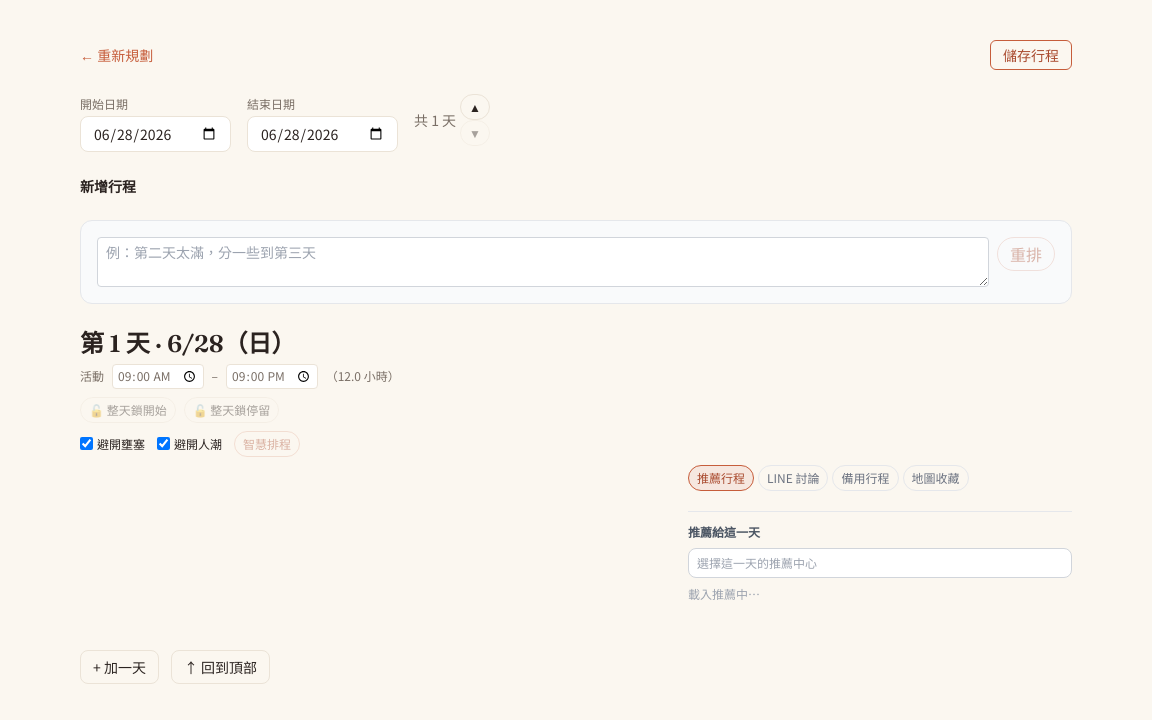
Scenario: extending the end date appends empty days with default window
Type "2026-06-30" into the date field with test id "trip-end-date" at (322, 134), box [247,116,398,152]
(page scrolled)
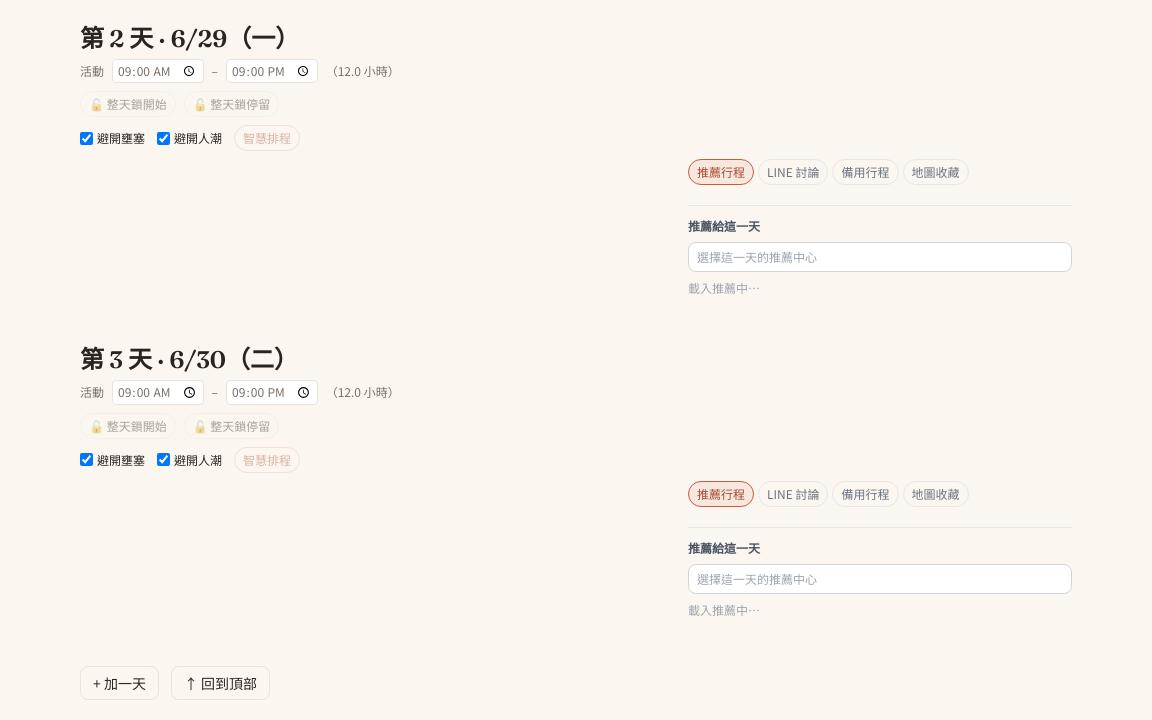
expect the heading "第 3 天 · 6/30（二）" is shown: met, box [80,345,298,374]
